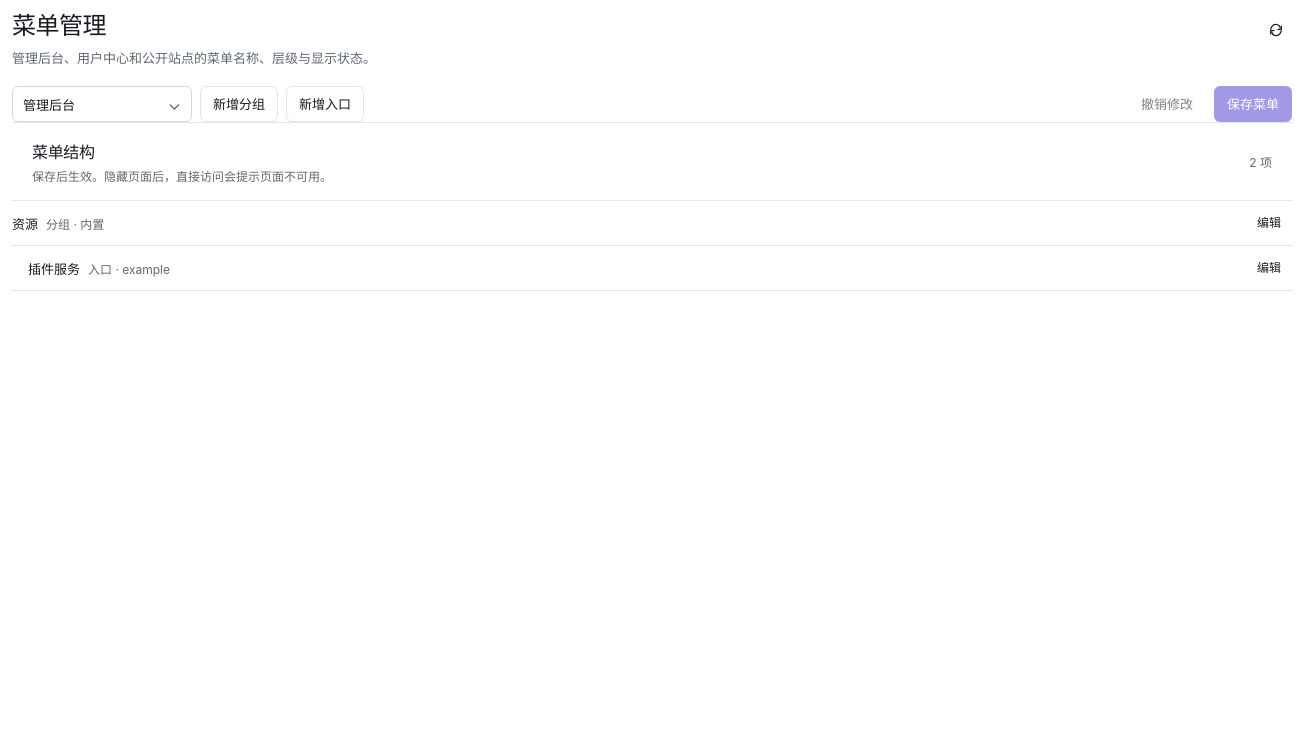
Test case: menu editor › edits persisted plugin presentation and refreshes shared navigation after saving
Click the button "编辑" in the row of "入口 · example" at (1269, 268), box 1246,252 -> 1292,284
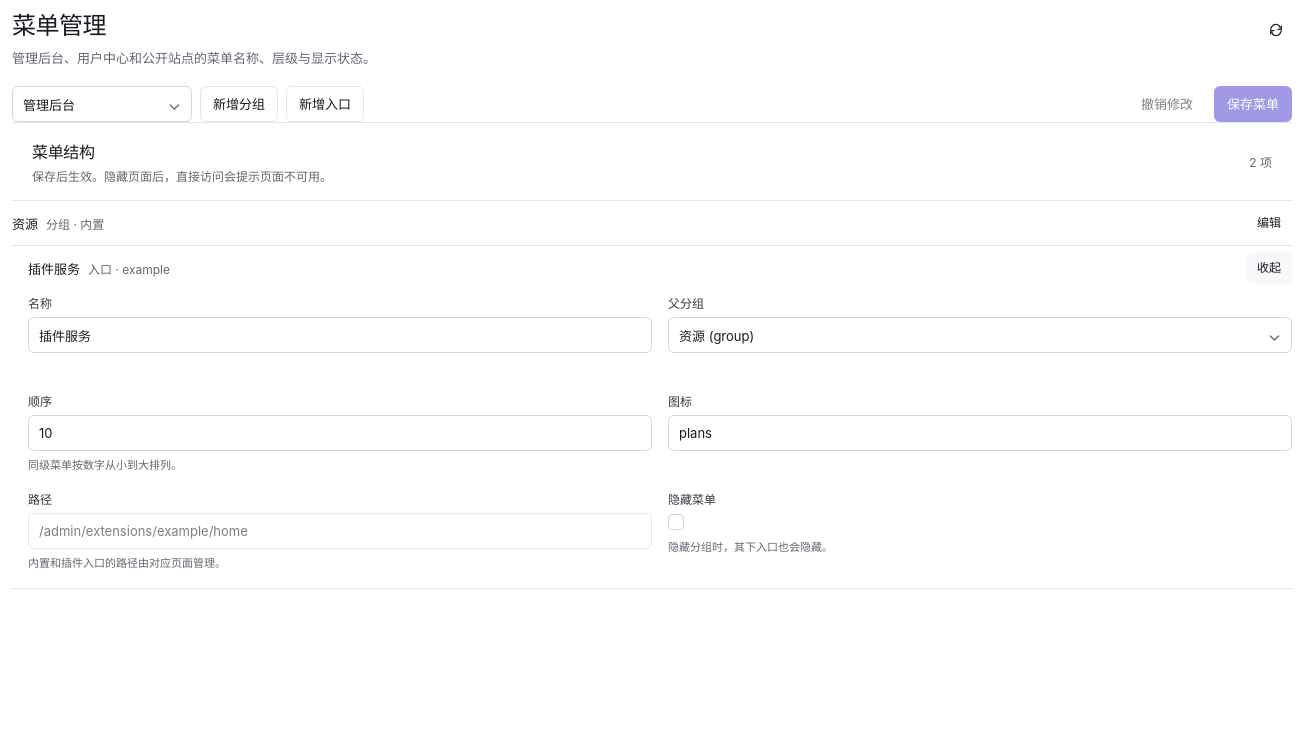
Now the field named "plugin:entry 路径" is disabled, box 28,513 -> 652,549
Replace the text in the field named "plugin:entry 名称" with "接入服务" at (340, 335), box 28,317 -> 652,353
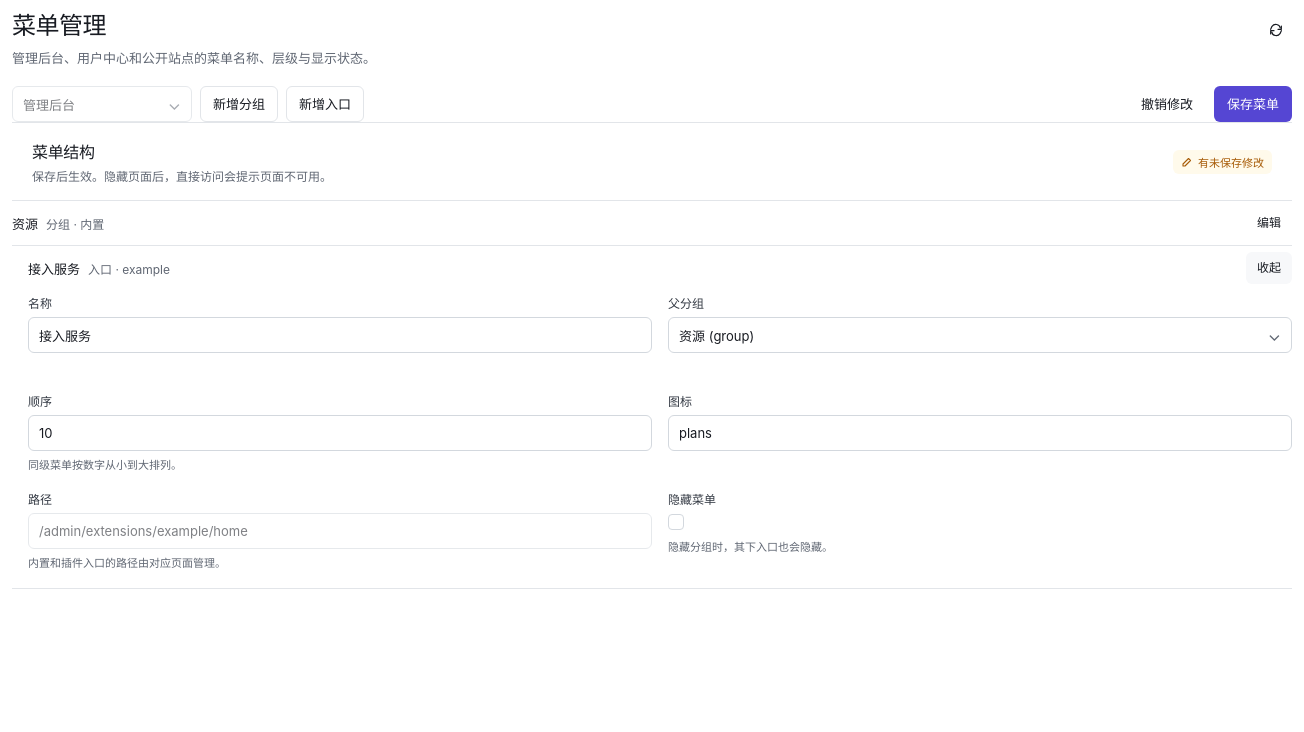
Click the checkbox named "plugin:entry 隐藏" at (676, 522), box 668,514 -> 684,530
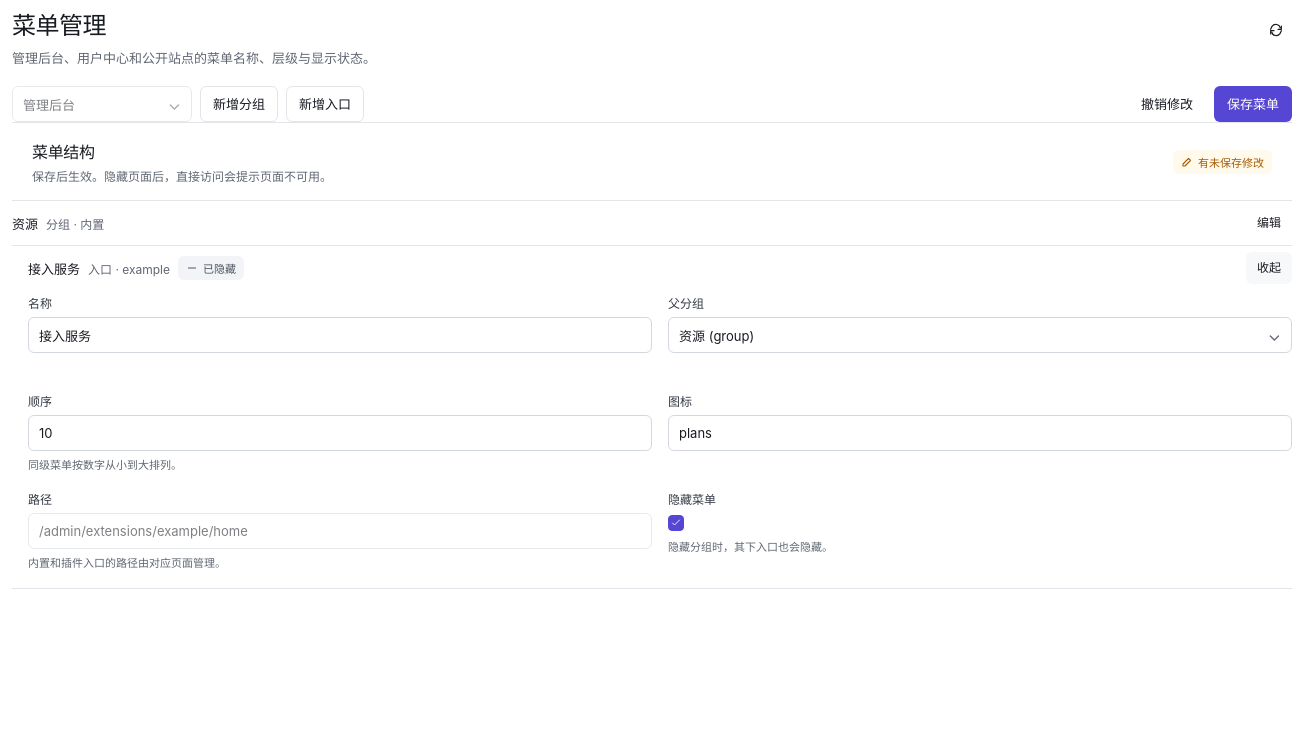
Click the button "保存菜单" at (1253, 104), box 1214,86 -> 1292,122
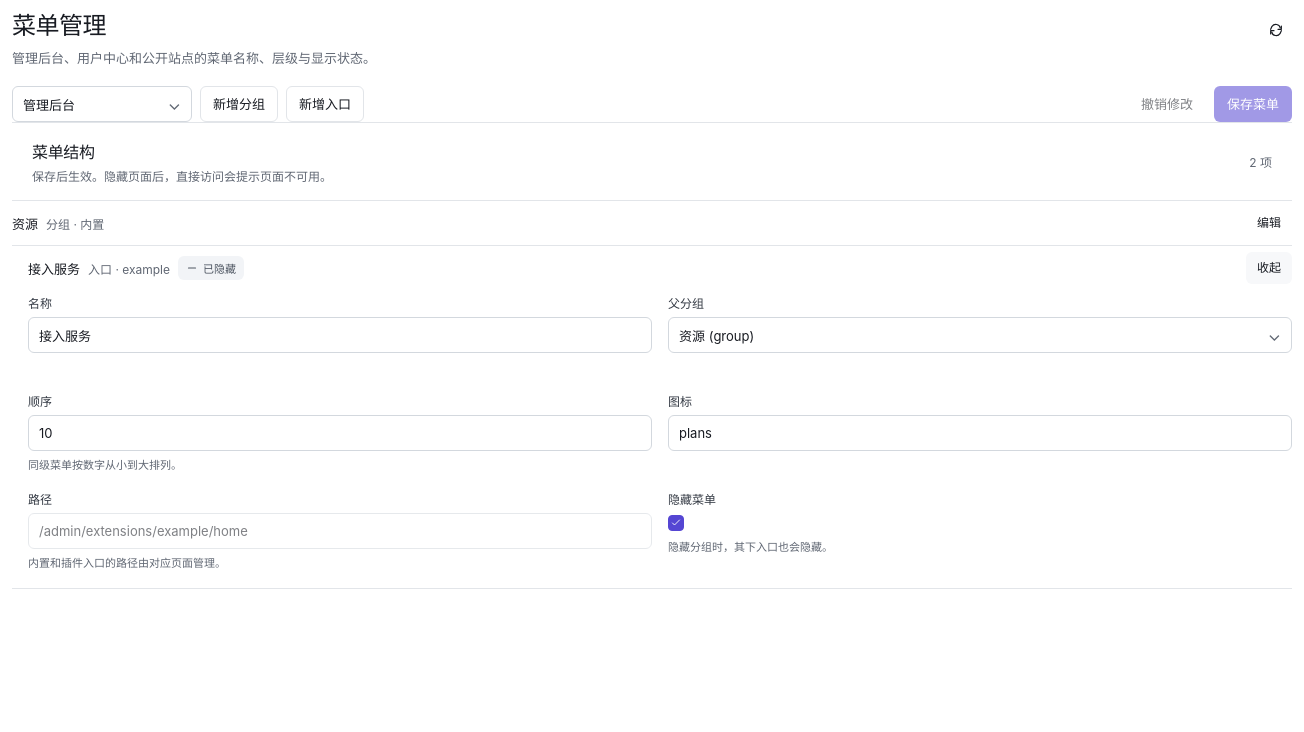
Now the dropdown named "菜单范围" is enabled, box 12,86 -> 192,122
